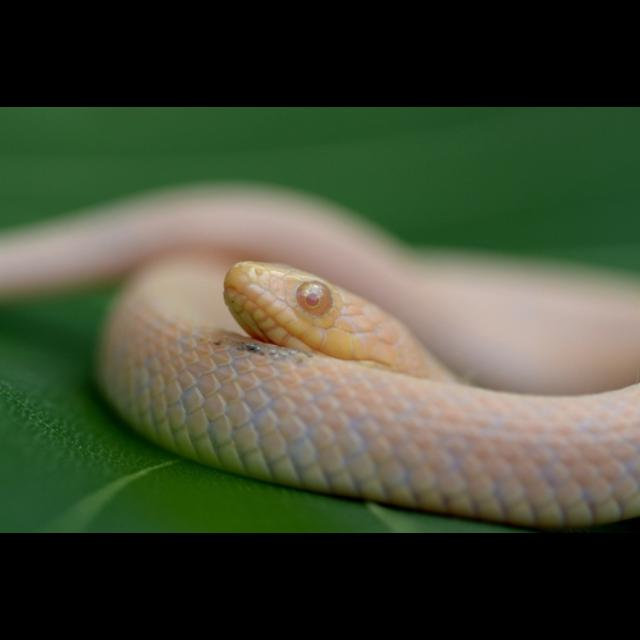snake: (80, 241, 640, 534)
